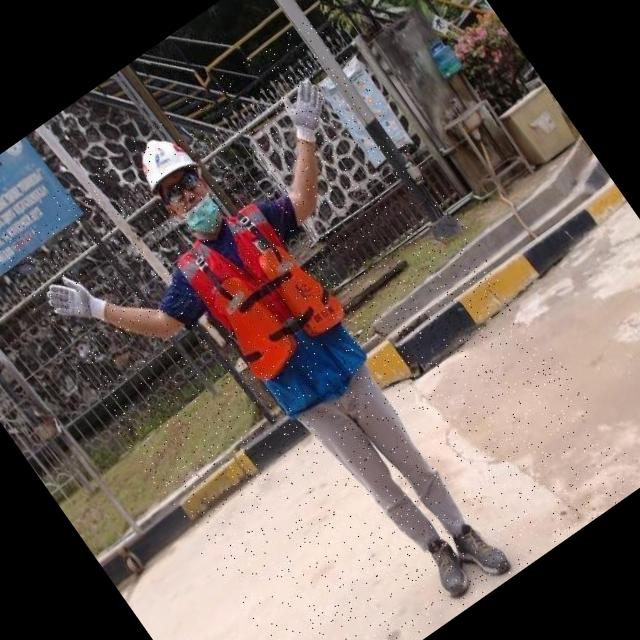hard_hat: (125, 122, 203, 200)
safety_vest: (170, 189, 382, 425)
vehicle: (0, 9, 640, 640)
work_boots: (440, 504, 517, 590), (413, 530, 481, 606)
